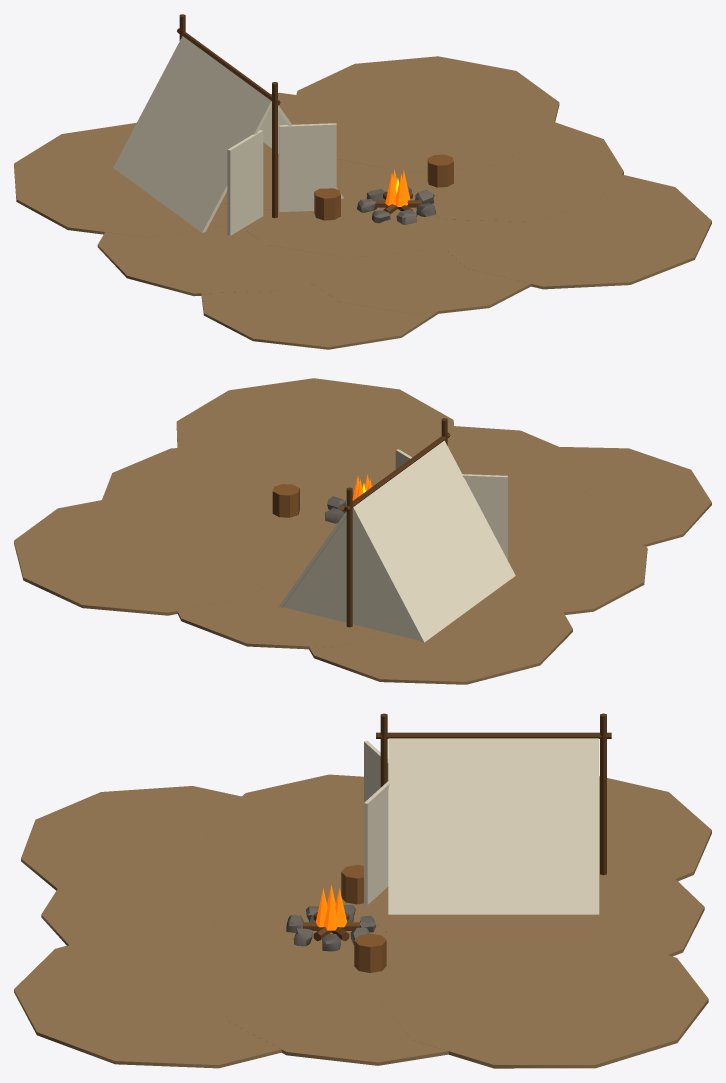
The model's file is koszary_poz01.glb.
3 views of the same model, one above another, from view 1: azimuth 30°, elevation 25°; view 2: azimuth 150°, elevation 25°; view 3: azimuth 270°, elevation 25° (orthographic). The views are drawn at different scales.
Visible parts, largest first — view 1: koszary_poz01; view 2: koszary_poz01; view 3: koszary_poz01.
Boxes of the visible parts, bbox=[...] form: koszary_poz01: bbox=[14, 14, 711, 349]; koszary_poz01: bbox=[14, 378, 711, 684]; koszary_poz01: bbox=[14, 713, 711, 1068].
Size of the model in its own units: 8.55 by 2.3 by 8.6.
